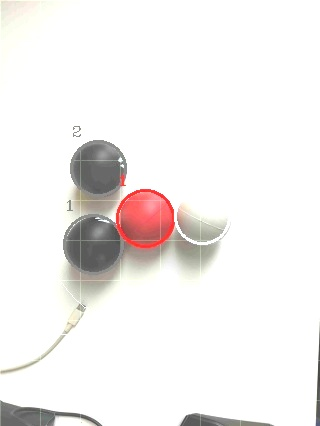Pelota blanca: (175, 185, 233, 246)
Pelota negra: (60, 212, 123, 275), (68, 137, 129, 198), (175, 411, 273, 425)
Pelota roja: (113, 188, 174, 248)
